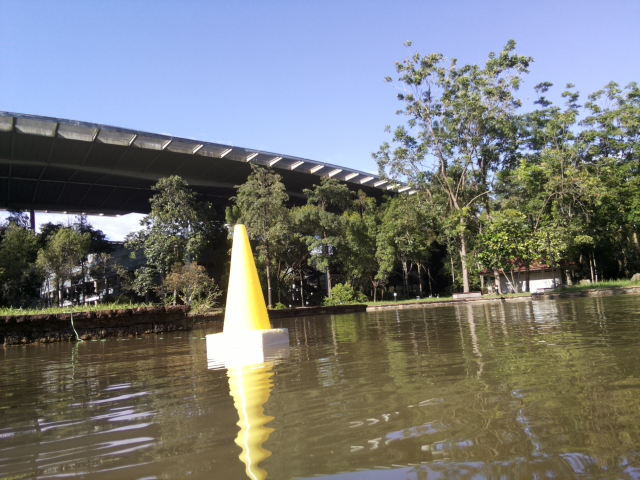checkpoint: (205, 222, 290, 359)
